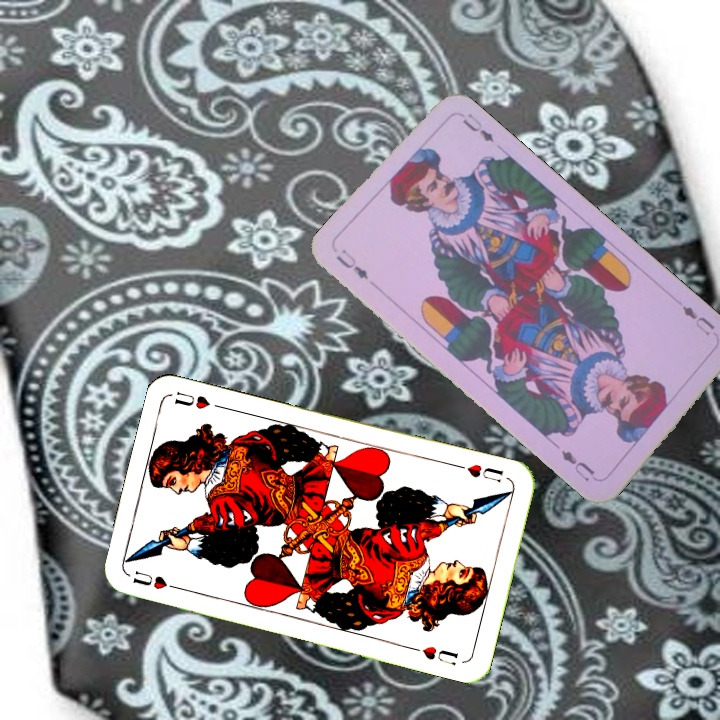EU: (677, 301, 718, 339), (331, 245, 371, 282)
HU: (129, 566, 184, 593), (452, 460, 506, 485)
